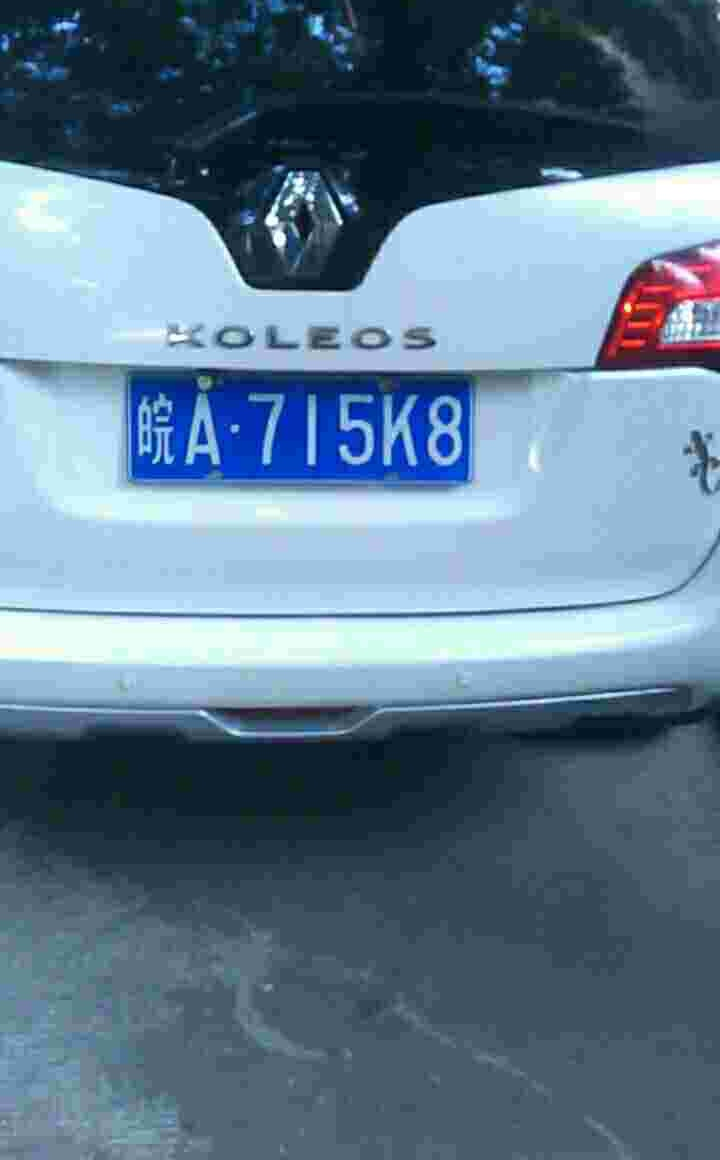license_plate: (132, 368, 491, 488)
